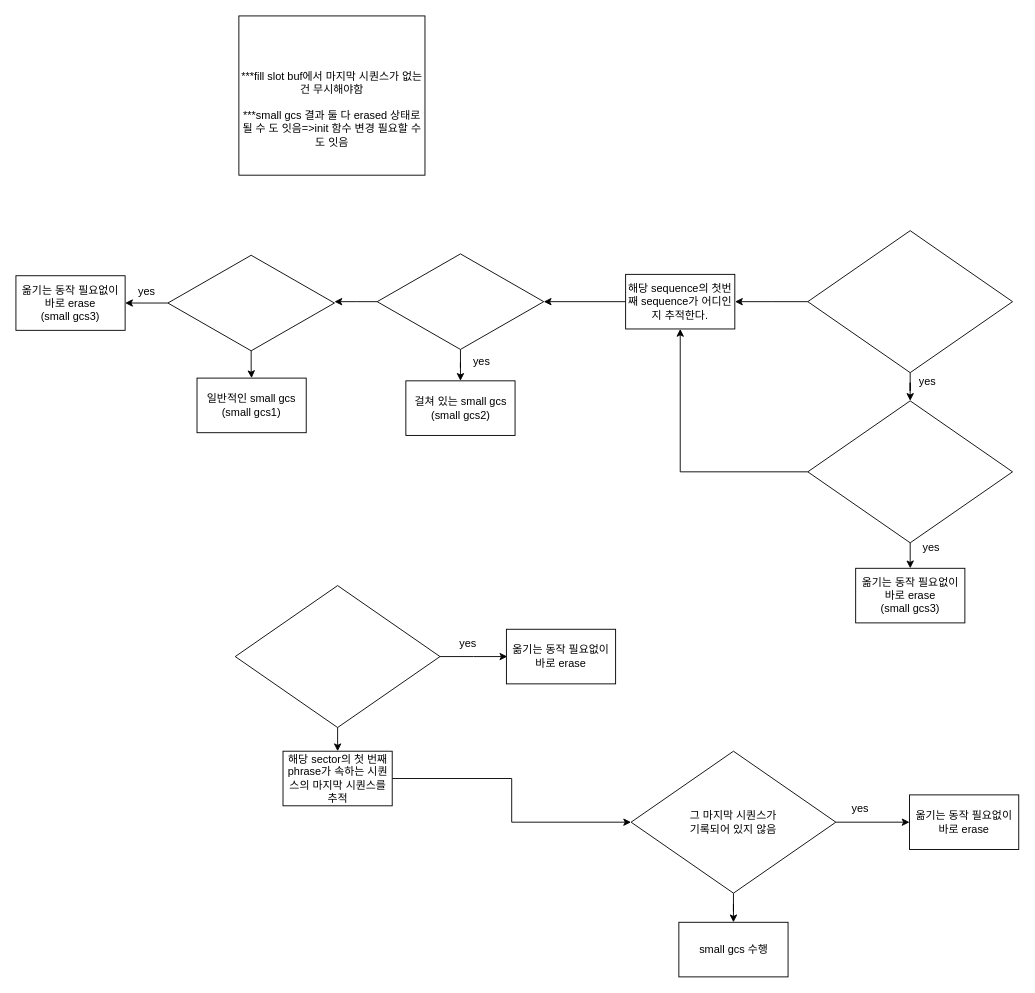
The diagram is 1035 pixels wide and 993 high, and some of its shapes have lost their labels. The shapes that lost their labels are listed below. From the top down, each one's centre as x and y in pixels, then its label:
At point 250,302: "그 첫 sequence가 마지막 phrase가 속한 sector의 첫번째 phrase".
At point 460,301: "그 첫 sequence가 마지막 phrase와 다른 sector에 속해잇다".
At point 910,301: "마지막 phrase의 전 phrase가 마지막 sequence이다".
At point 910,471: "그 phrase가 마지막 phrase와 다른 sector에 속해있다".
At point 337,656: "마지막 phrase가 sector의 첫번째 phrase".
